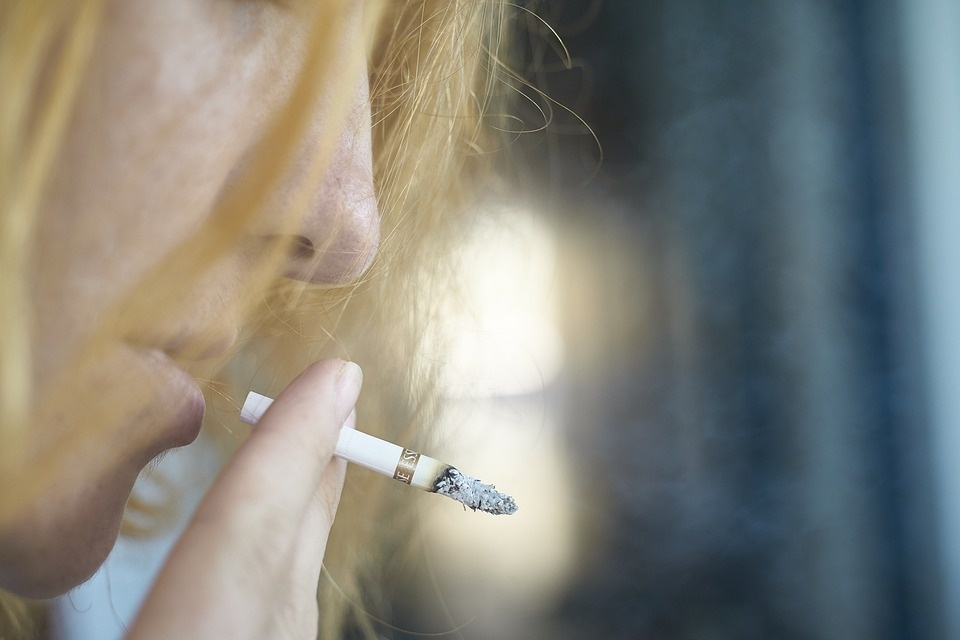sigaretta: (234, 386, 512, 518)
